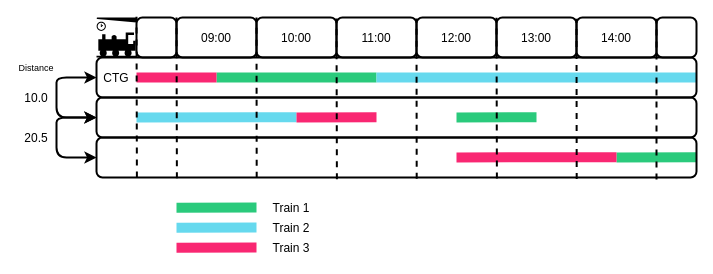
Image size: 713x274. Some labels were removed from this diagram. The shapes that lost their labels are listed below. From the top down, each one's centre as x and y in pixels, then its label:
pixel 396 117: DHK
pixel 396 157: KHL
